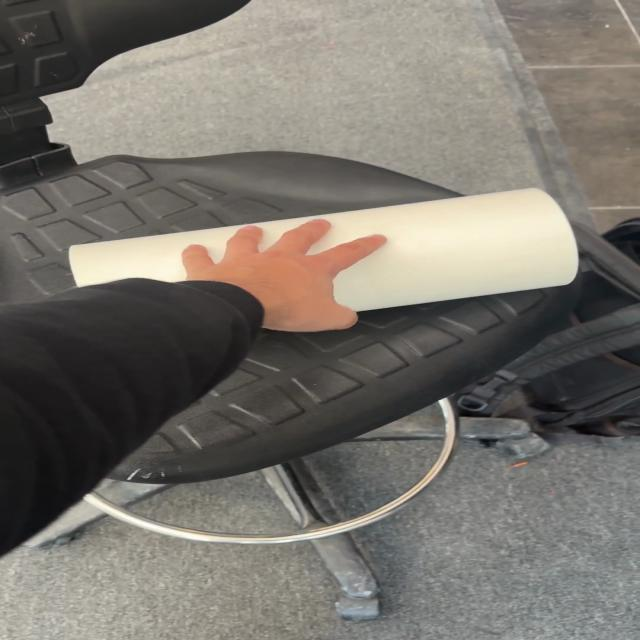Coral: (66, 185, 580, 314)
